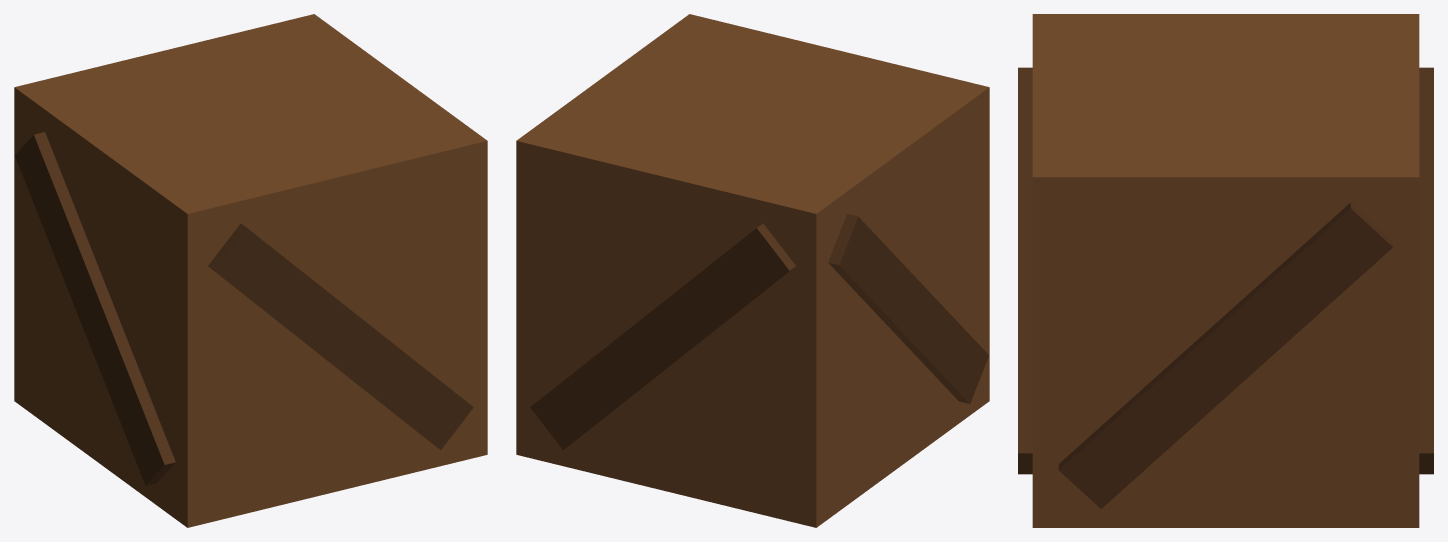
Rendered from crate_broken.glb.
The picture shows the model from 3 angles, left to right: view 1: azimuth 30°, elevation 25°; view 2: azimuth 150°, elevation 25°; view 3: azimuth 270°, elevation 25°; orthographic projection. The views are drawn at different scales.
Visible parts, largest first — view 1: crate_piece1, crate_piece4, crate_piece5, crate_piece3, crate_piece2, crate_piece0; view 2: crate_piece1, crate_piece2, crate_piece4, crate_piece0, crate_piece5, crate_piece3; view 3: crate_piece5, crate_piece1, crate_piece2, crate_piece0, crate_piece3.
Boxes of the visible parts, x1=… form: crate_piece1: x1=14, y1=15, x2=390, y2=342; crate_piece4: x1=38, y1=181, x2=401, y2=527; crate_piece5: x1=278, y1=60, x2=487, y2=417; crate_piece3: x1=32, y1=371, x2=487, y2=493; crate_piece2: x1=14, y1=138, x2=54, y2=413; crate_piece0: x1=308, y1=14, x2=376, y2=79; crate_piece1: x1=523, y1=37, x2=989, y2=330; crate_piece2: x1=516, y1=239, x2=874, y2=527; crate_piece4: x1=840, y1=184, x2=989, y2=489; crate_piece0: x1=516, y1=94, x2=636, y2=370; crate_piece5: x1=580, y1=14, x2=785, y2=96; crate_piece3: x1=834, y1=463, x2=868, y2=514; crate_piece5: x1=1018, y1=125, x2=1417, y2=492; crate_piece1: x1=1018, y1=14, x2=1433, y2=284; crate_piece2: x1=1161, y1=295, x2=1433, y2=527; crate_piece0: x1=1252, y1=152, x2=1433, y2=434; crate_piece3: x1=1018, y1=456, x2=1175, y2=527.
Bounding box in the file's own units: 0.172 × 0.16 × 0.172.
